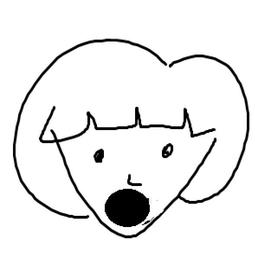open_mouth: (103, 189, 154, 226)
pointy_nose: (123, 169, 148, 188)
small_eye: (157, 141, 177, 166), (90, 148, 110, 163)
